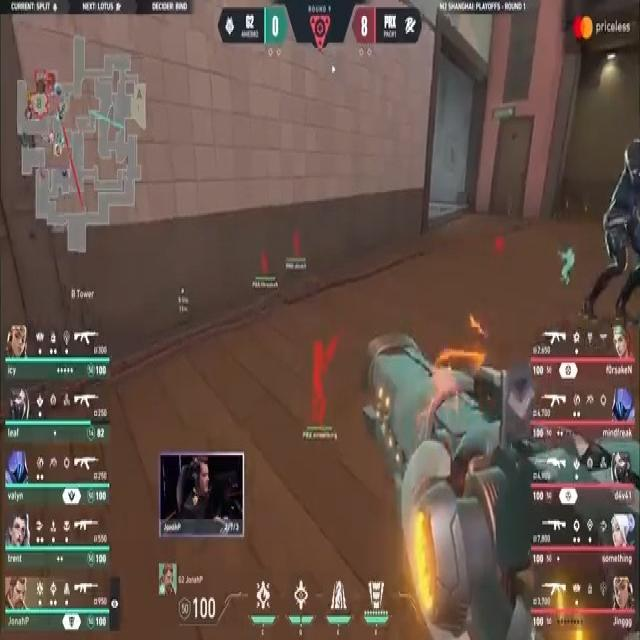ally: (584, 123, 640, 329)
ally behind wall: (554, 248, 576, 285)
enemy behind wall: (307, 328, 343, 425)
